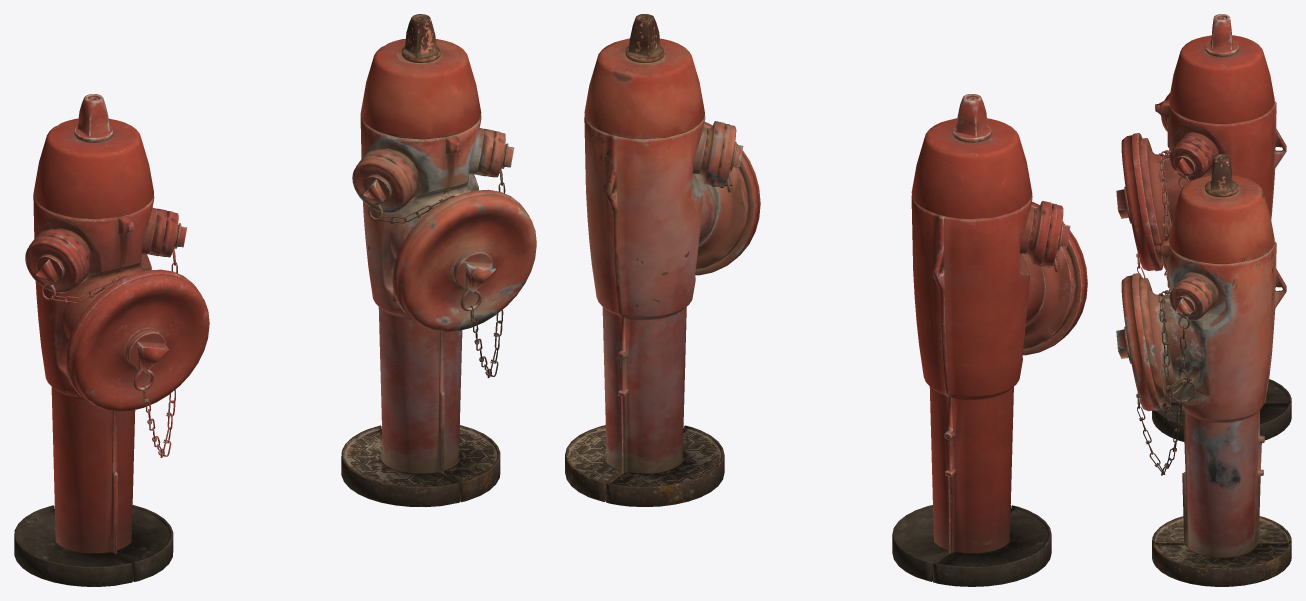
File: fire_hydrant.glb
3 views of the same model, side by side, from view 1: azimuth 30°, elevation 25°; view 2: azimuth 150°, elevation 25°; view 3: azimuth 270°, elevation 25° (orthographic). The views are drawn at different scales.
Visible parts, largest first — view 1: fire_hydrant_aged, fire_hydrant; view 2: fire_hydrant_aged, fire_hydrant; view 3: fire_hydrant_aged, fire_hydrant.
Part boxes in pixels (left/top/right/bottom): fire_hydrant_aged: left=341, top=14, right=536, bottom=506; fire_hydrant: left=14, top=94, right=209, bottom=586; fire_hydrant_aged: left=565, top=14, right=760, bottom=506; fire_hydrant: left=892, top=94, right=1087, bottom=586; fire_hydrant_aged: left=1116, top=154, right=1291, bottom=586; fire_hydrant: left=1116, top=14, right=1291, bottom=441.
Size of the model in its own units: 0.8745 by 0.7994 by 0.3173.
2 materials, 2 textured.
